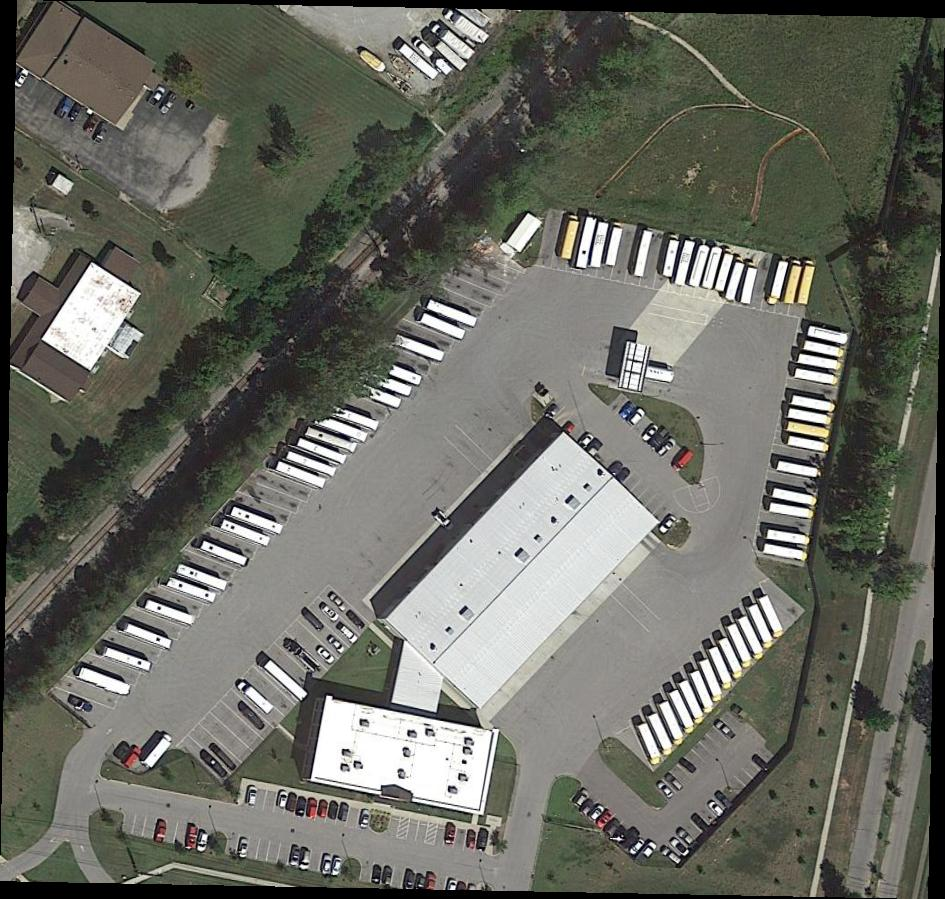ship: (385, 50, 418, 82), (358, 46, 389, 76), (383, 68, 415, 97)
